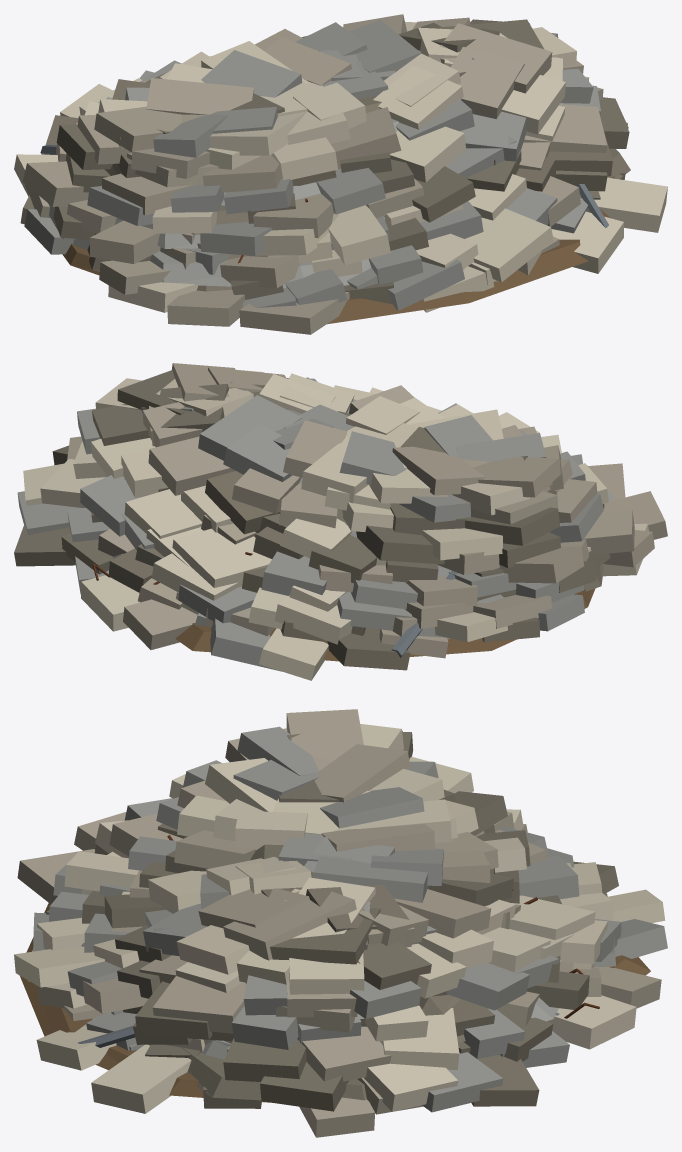
File: rubble_field_l.glb
3 renders of one model, top to bottom at view 1: azimuth 30°, elevation 25°; view 2: azimuth 150°, elevation 25°; view 3: azimuth 270°, elevation 25°, orthographic. The views are drawn at different scales.
Parts seen in each view (by area): view 1: rubble_field_l; view 2: rubble_field_l; view 3: rubble_field_l.
Boxes of the visible parts, x1,y1,x2,y2 form: rubble_field_l: (14, 14, 667, 334); rubble_field_l: (14, 363, 667, 680); rubble_field_l: (14, 709, 667, 1137).
Size of what is drawn, in the model's own units: 12.48 by 3.08 by 11.25.
2 materials, 2 textured.
